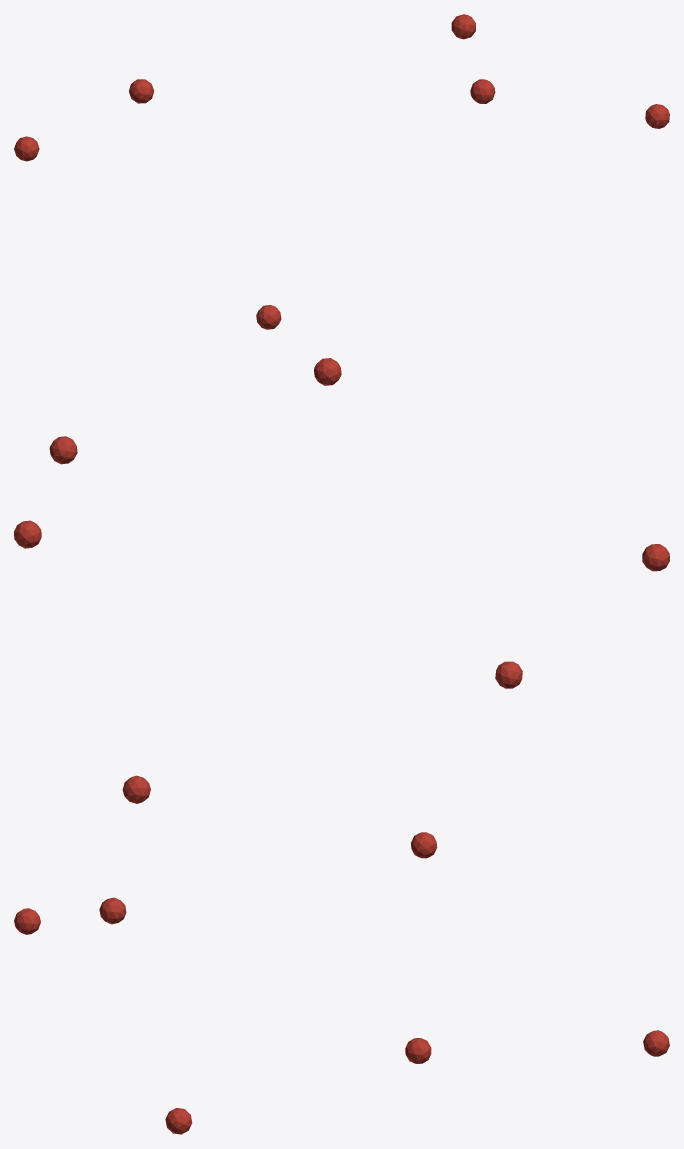
Rendered from rdbrrs2.fbx.
3 views of the same model, one above another, from view 1: azimuth 30°, elevation 25°; view 2: azimuth 150°, elevation 25°; view 3: azimuth 270°, elevation 25° (orthographic). The views are drawn at different scales.
Parts seen in each view (by area): view 1: Mball.001; view 2: Mball.001; view 3: Mball.001.
Boxes of the visible parts, x1=… form: Mball.001: x1=14, y1=14, x2=669, y2=329; Mball.001: x1=14, y1=358, x2=669, y2=803; Mball.001: x1=14, y1=832, x2=669, y2=1134.
Bounding box in the file's own units: 39.19 × 13.19 × 39.1.
